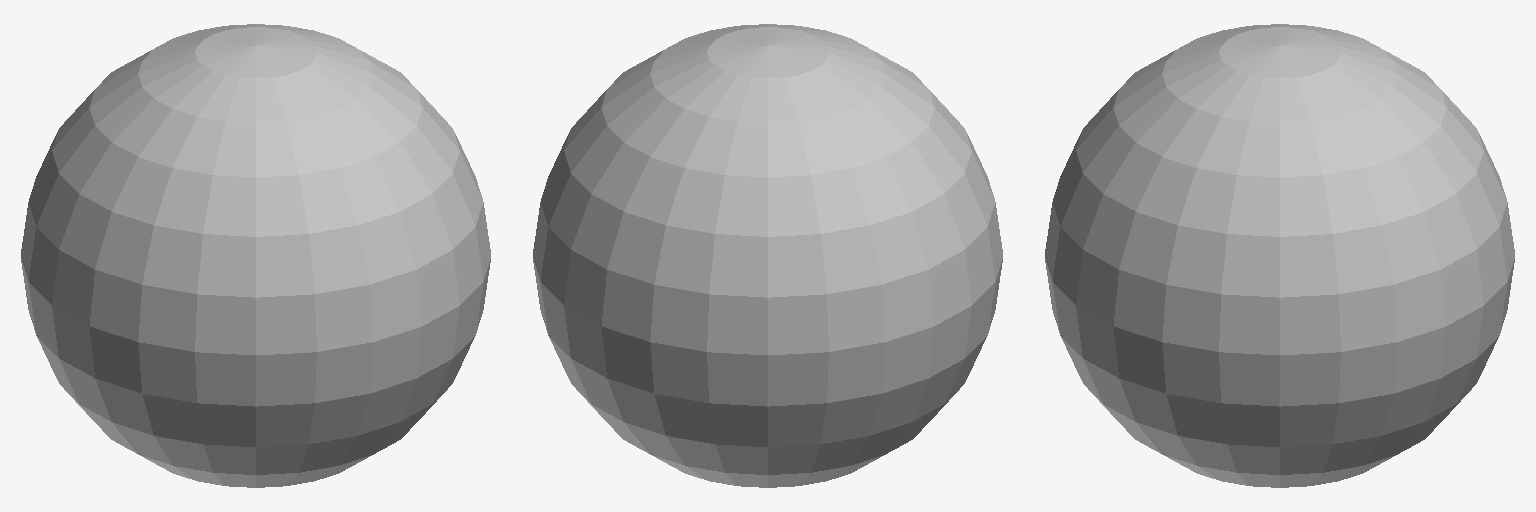
The model's file is backdrop.obj.
3 renders of one model, left to right at view 1: azimuth 30°, elevation 25°; view 2: azimuth 150°, elevation 25°; view 3: azimuth 270°, elevation 25°, orthographic.
Parts seen in each view (by area): view 1: backdrop.obj; view 2: backdrop.obj; view 3: backdrop.obj.
Boxes of the visible parts, x1,y1,x2,y2 form: backdrop.obj: [21, 24, 490, 487]; backdrop.obj: [533, 24, 1002, 487]; backdrop.obj: [1045, 24, 1514, 487].
Bounding box in the file's own units: 698 × 688 × 698.